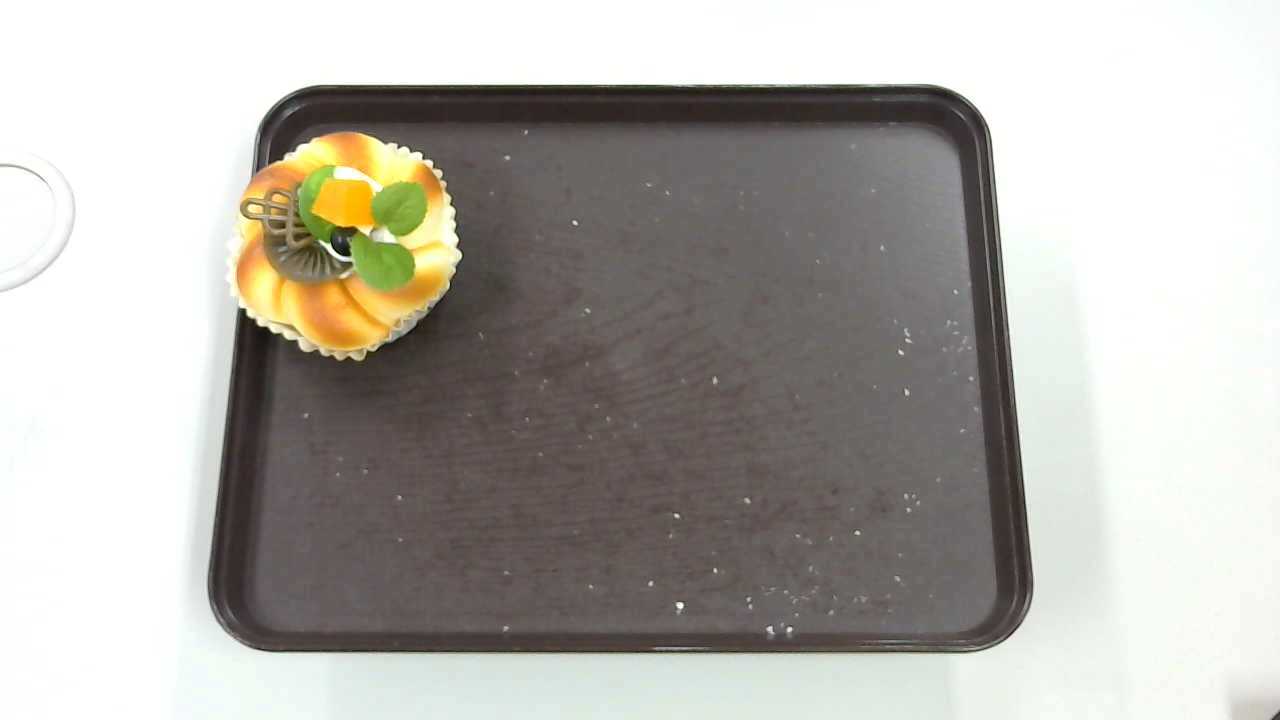fruit tart: (229, 130, 463, 362)
